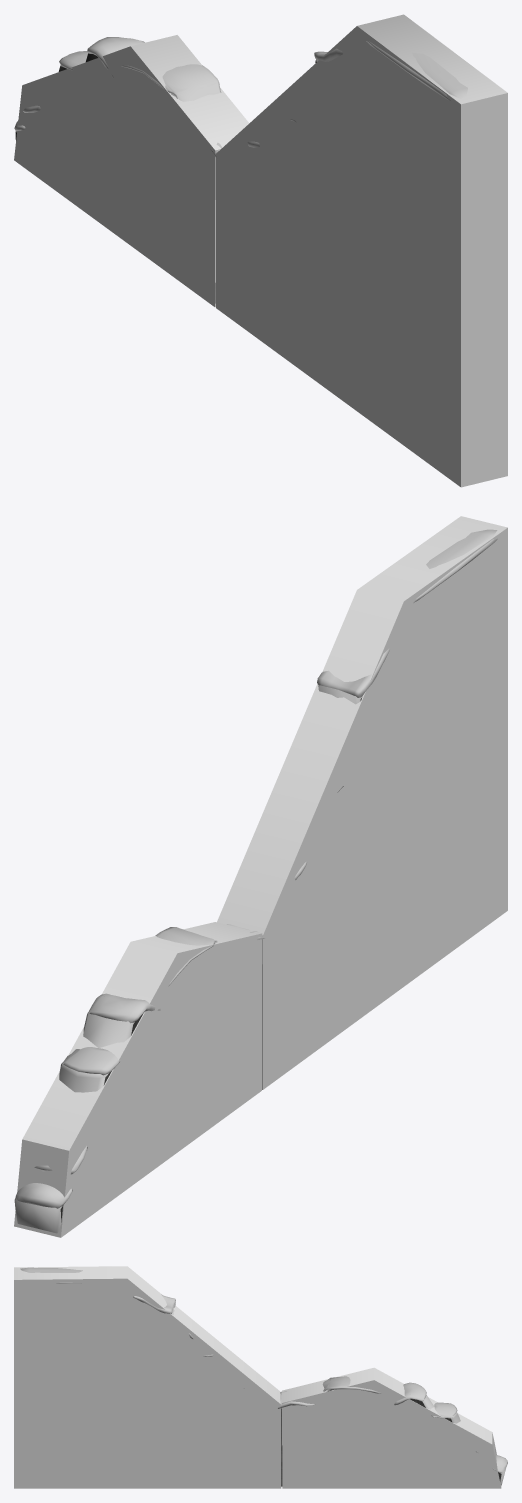
Rendered from Wall-One_Side.fbx.
3 views of the same model, one above another, from view 1: azimuth 30°, elevation 25°; view 2: azimuth 150°, elevation 25°; view 3: azimuth 270°, elevation 25° (orthographic). The views are drawn at different scales.
Visible parts, largest first — view 1: wall-onside_col, snow; view 2: wall-onside_col, snow, wall-onside; view 3: wall-onside_col, snow, wall-onside.
Boxes of the visible parts, x1,y1,x2,y2 form: wall-onside_col: (14,14,507,487); snow: (14,37,467,159); wall-onside_col: (14,516,507,1237); snow: (15,529,497,1208); wall-onside: (14,685,362,1233); wall-onside_col: (14,1266,501,1488); snow: (20,1267,507,1472); wall-onside: (171,1302,505,1486).
Bounding box in the file's own units: 19.61 × 134 × 285.
